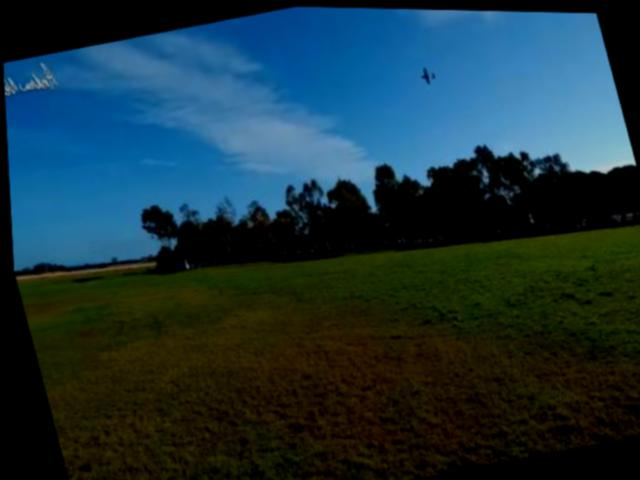uav: (412, 59, 442, 91)
